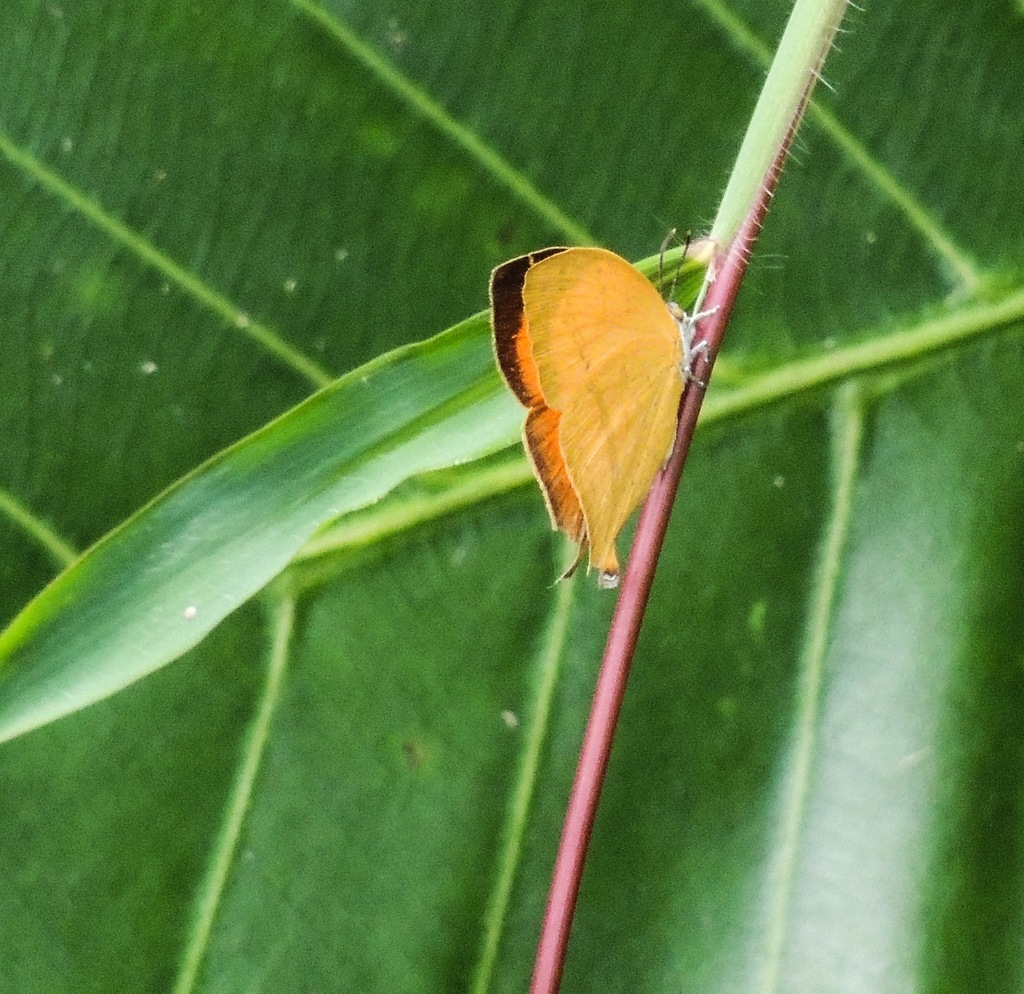Butterfly: (485, 204, 720, 604)
